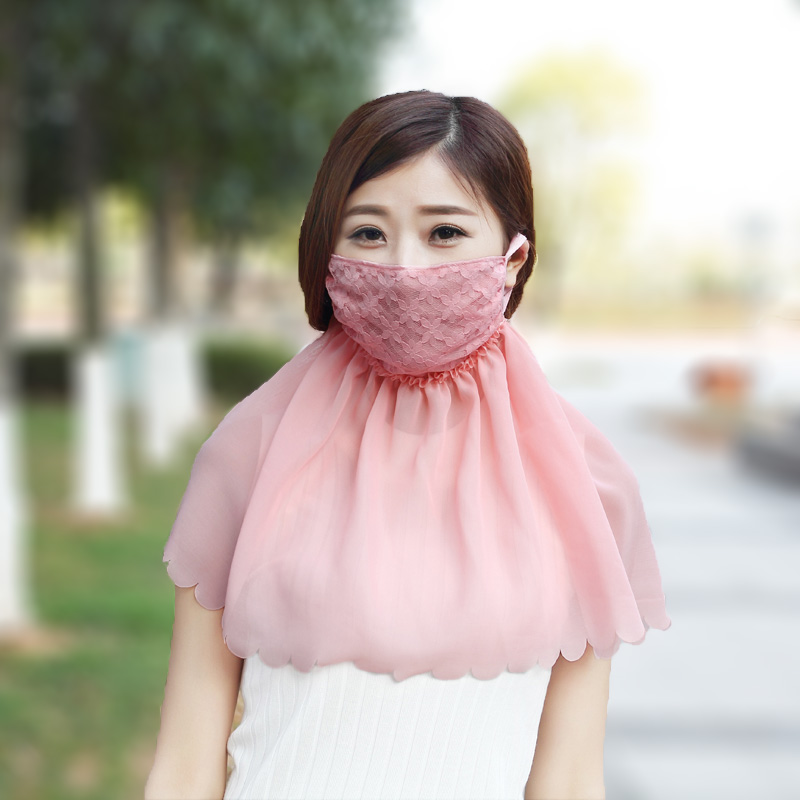face_mask: (325, 149, 503, 373)
